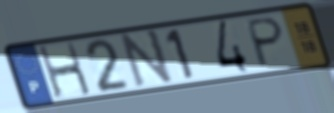1: (165, 27, 198, 83)
2: (84, 37, 132, 95)
4: (213, 18, 253, 76)
H: (36, 40, 94, 101)
N: (119, 28, 176, 90)
P: (246, 16, 287, 71)
